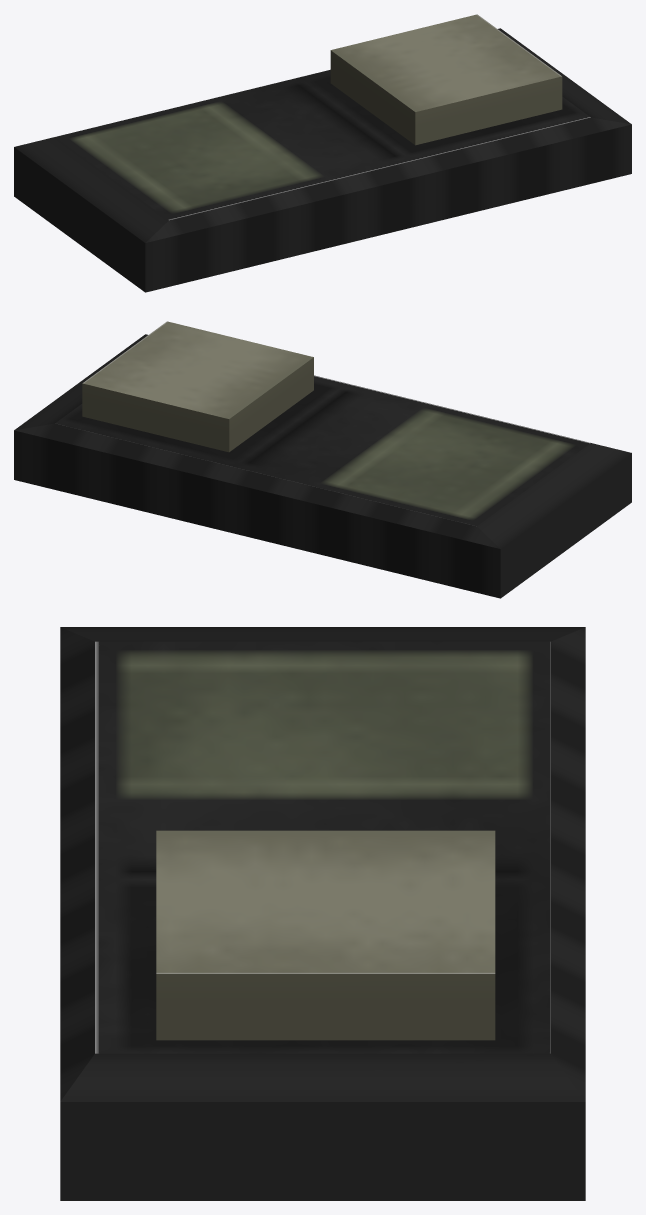
File: Control1.fbx
3 renders of one model, top to bottom at view 1: azimuth 30°, elevation 25°; view 2: azimuth 150°, elevation 25°; view 3: azimuth 270°, elevation 25°, orthographic. The views are drawn at different scales.
Parts seen in each view (by area): view 1: ButtonBody, Button; view 2: ButtonBody, Button; view 3: ButtonBody, Button.
Boxes of the visible parts, x1=… form: ButtonBody: x1=14, y1=28, x2=631, y2=292; Button: x1=330, y1=14, x2=562, y2=145; ButtonBody: x1=14, y1=334, x2=631, y2=598; Button: x1=82, y1=321, x2=313, y2=452; ButtonBody: x1=60, y1=627, x2=585, y2=1200; Button: x1=156, y1=830, x2=495, y2=1040.
Size of the model in its own units: 25 by 4.47 by 11.69.
